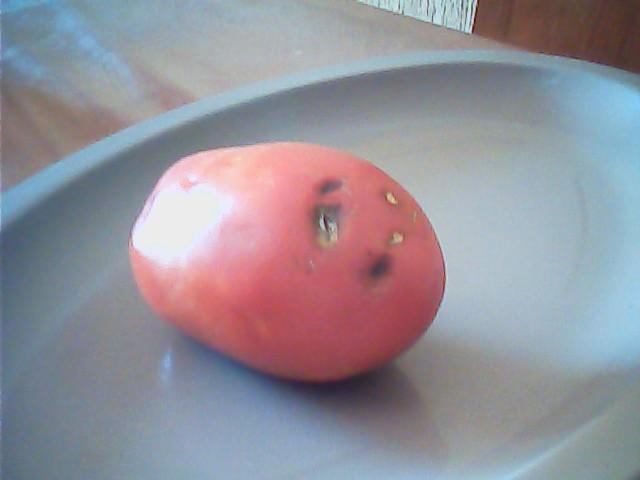defectuoso: (124, 140, 449, 387)
